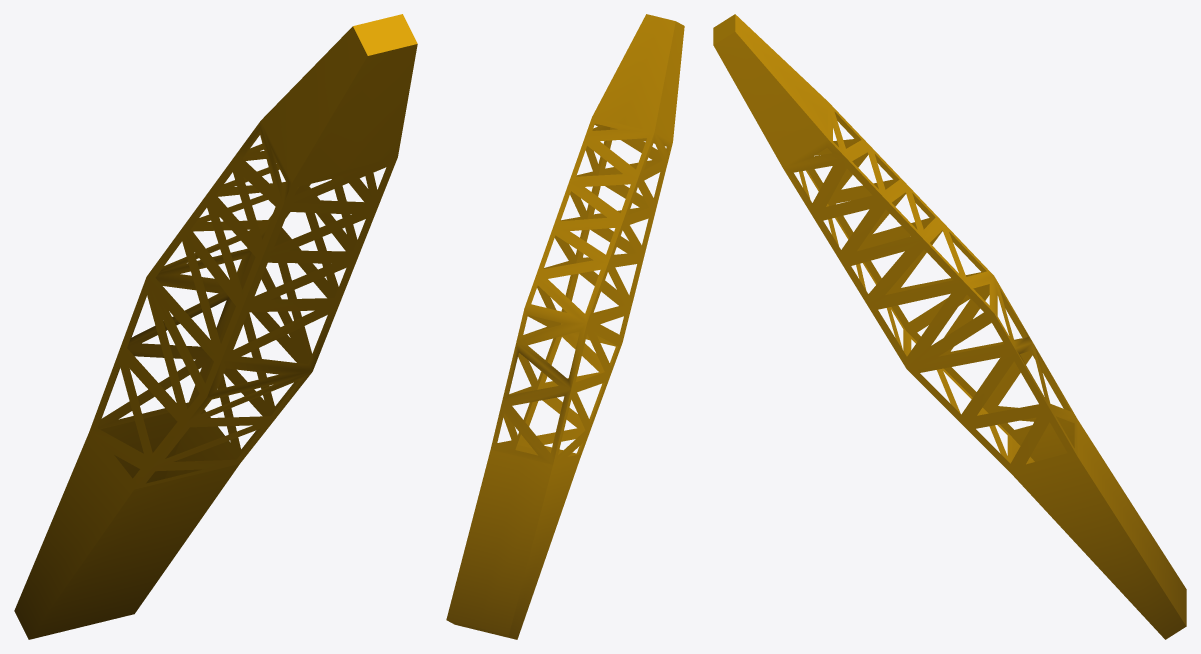
The model's file is vehicles-work-vehicles-crane-boom_v1.glb.
3 views of the same model, side by side, from view 1: azimuth 30°, elevation 25°; view 2: azimuth 150°, elevation 25°; view 3: azimuth 270°, elevation 25° (orthographic). The views are drawn at different scales.
Parts seen in each view (by area): view 1: Crane Boom; view 2: Crane Boom; view 3: Crane Boom.
Boxes of the visible parts, x1,y1,x2,y2 form: Crane Boom: [14, 14, 417, 639]; Crane Boom: [446, 14, 684, 639]; Crane Boom: [713, 14, 1186, 639].
Bounding box in the file's own units: 2.69 × 20 × 14.33.
